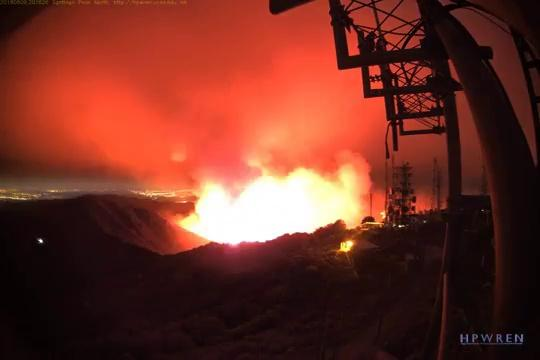fire: (209, 179, 350, 235)
